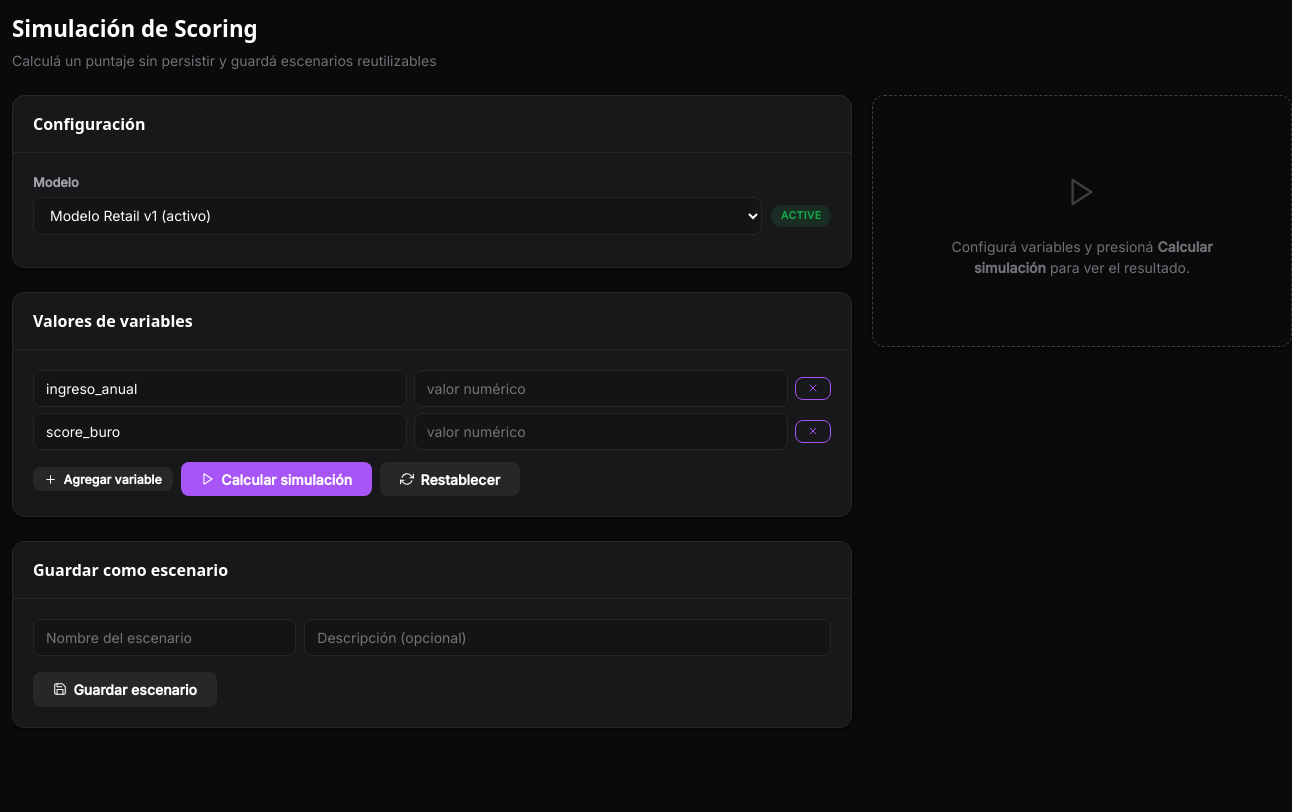
Test: Simulation — Calcular simulación › renders the score number after a successful simulation
Expected: the dropdown shows "Modelo Retail v1 (activo)", [33,197,762,235]
Replace the text in the field with placeholder "nombre_variable" with "score_buro" at (220, 388), box [33,370,407,407]
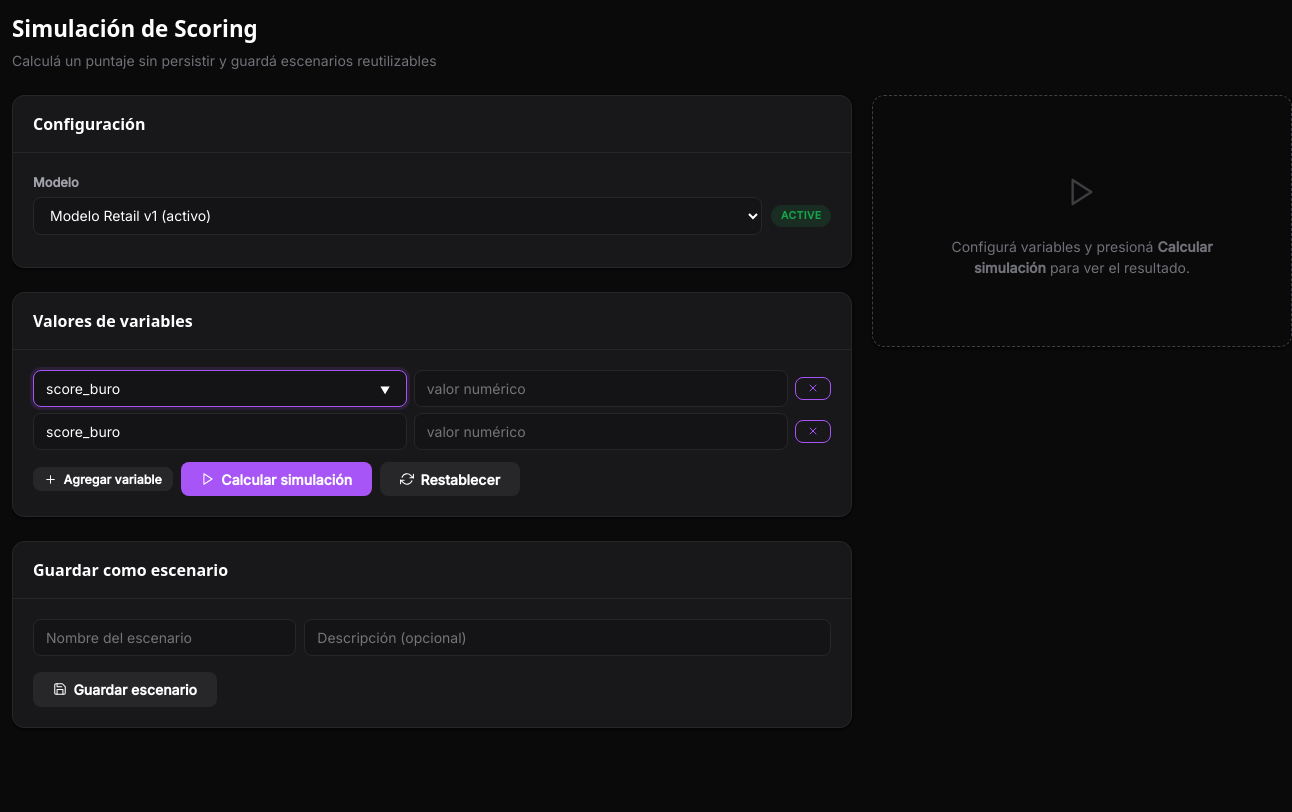
Type "700" into the 1st number field with placeholder "valor numérico" at (601, 388), box [414,370,788,407]
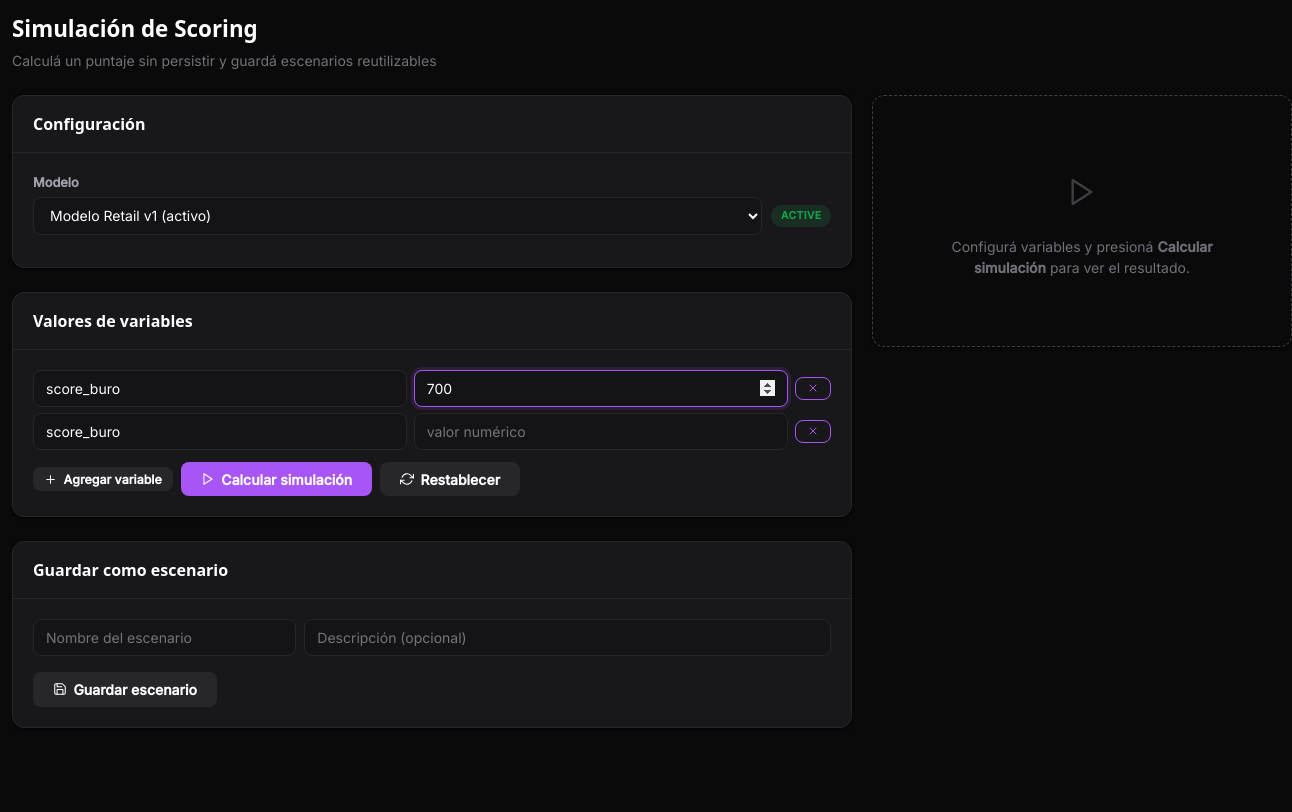
Click the button "Calcular simulación" at (277, 479), box [181,462,372,496]
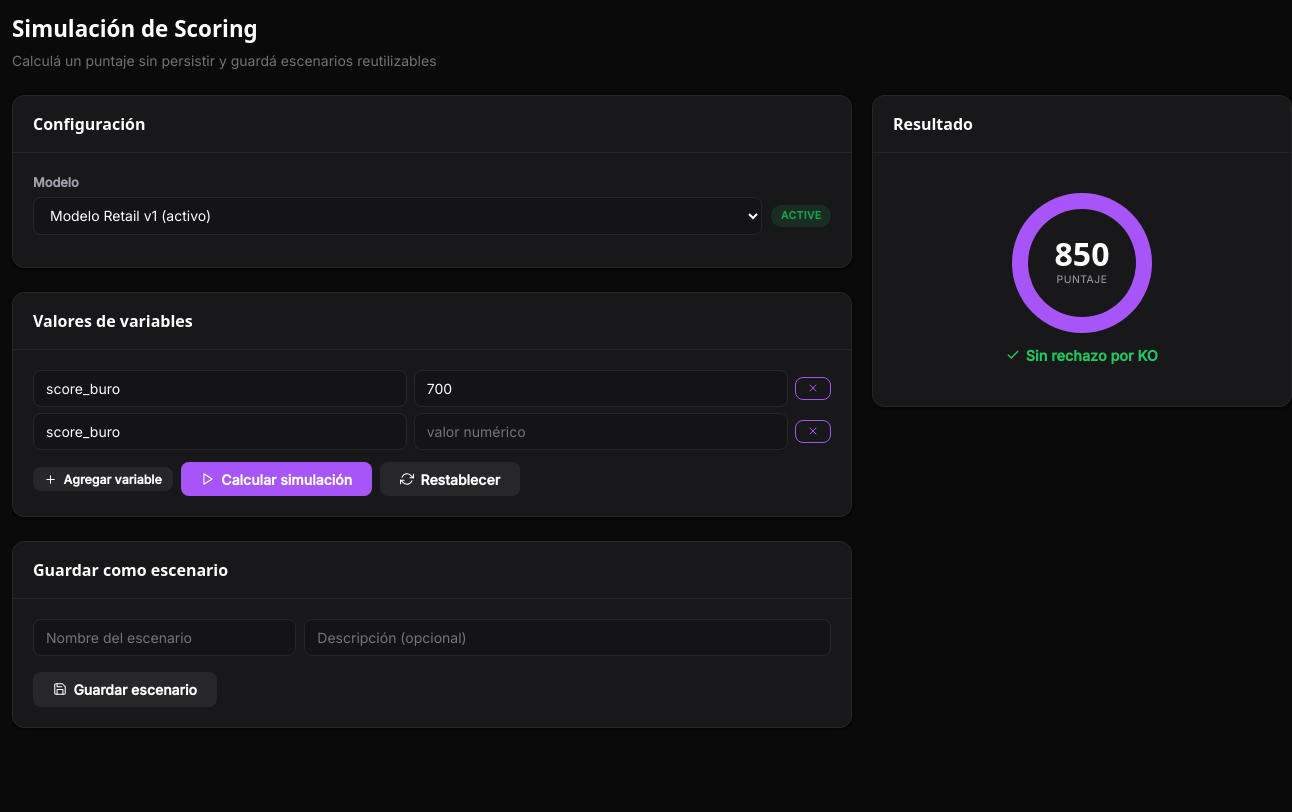
Expected: the text "850" is shown, [1054,238,1109,270]
